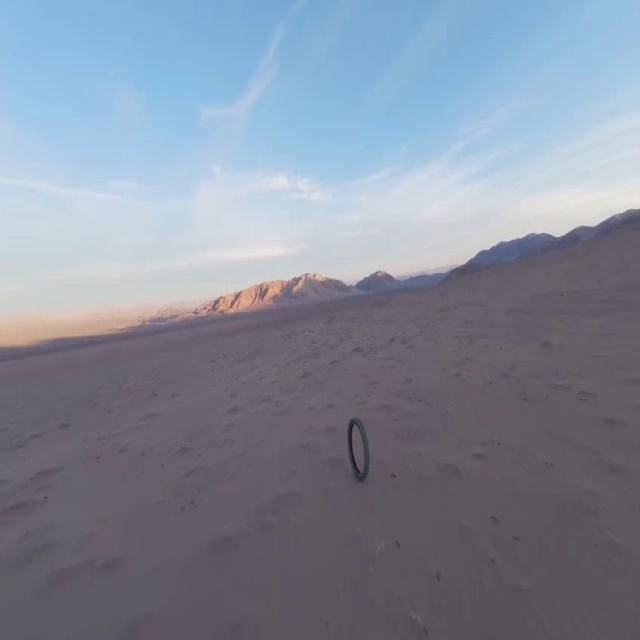Tire: (348, 416, 369, 479)
